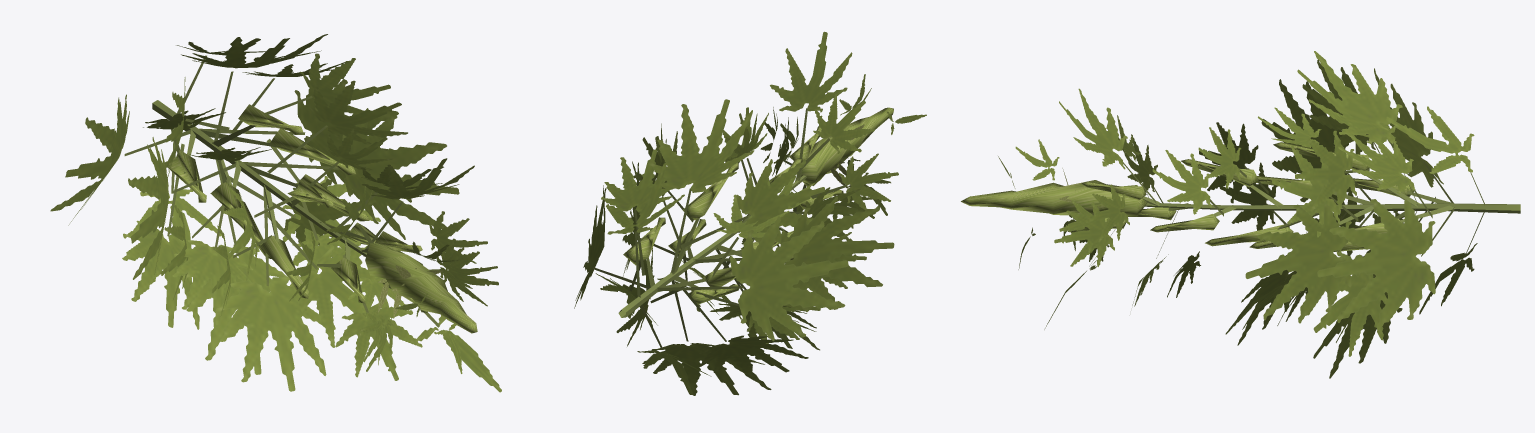
The model's file is p_landrace_flowering_c1_cards.obj.
The picture shows the model from 3 angles, left to right: view 1: azimuth 30°, elevation 25°; view 2: azimuth 150°, elevation 25°; view 3: azimuth 270°, elevation 25°; orthographic projection. The views are drawn at different scales.
Bounding box in the file's own units: 1.52 × 1.5 × 2.12.
1 material, 1 textured.
